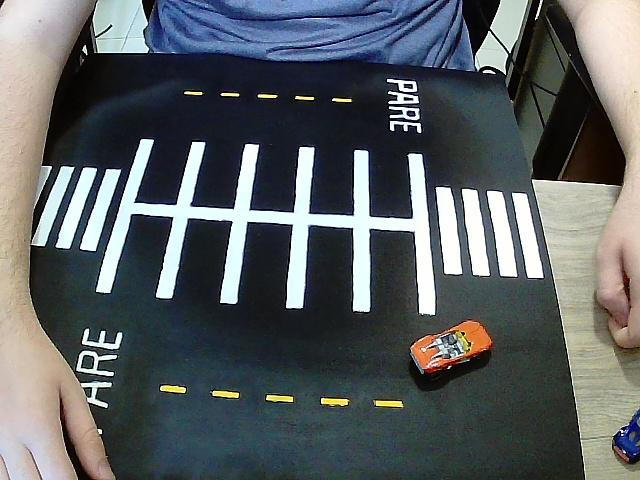Carro: (410, 321, 493, 380)
